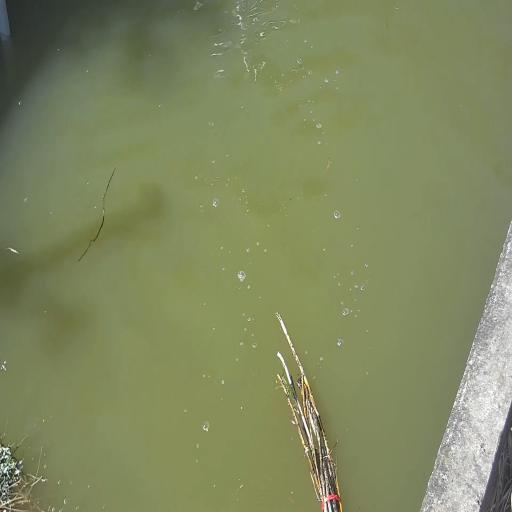twig: (272, 308, 356, 512), (0, 409, 58, 512)
